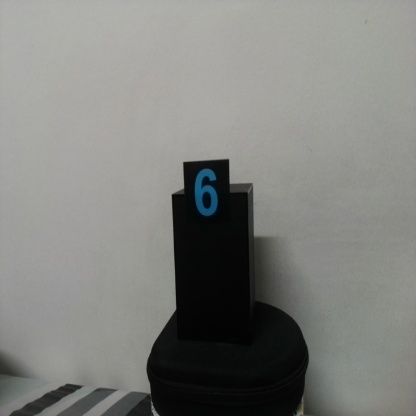id_6: (183, 161, 230, 233)
